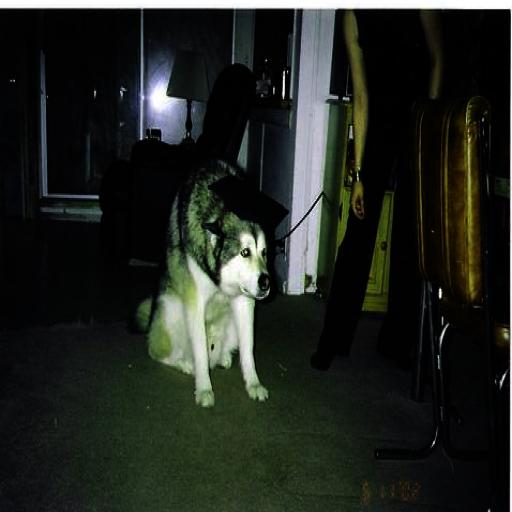dog_face: (207, 195, 284, 314)
